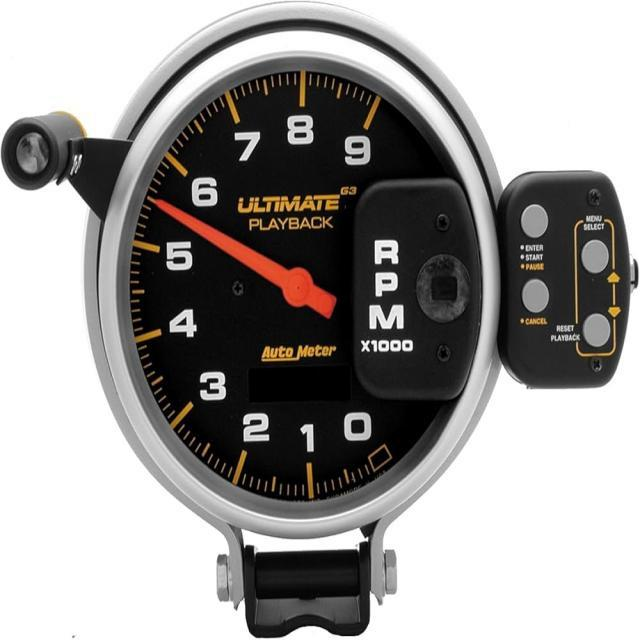Needle_Tip: (139, 182, 180, 229)
Needle_base: (256, 258, 328, 320)
max_value: (330, 125, 385, 177)
min_value: (334, 395, 386, 460)
